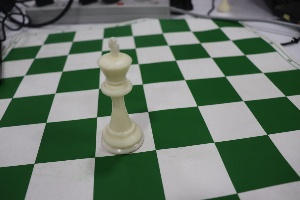white_king: (91, 34, 148, 158)
